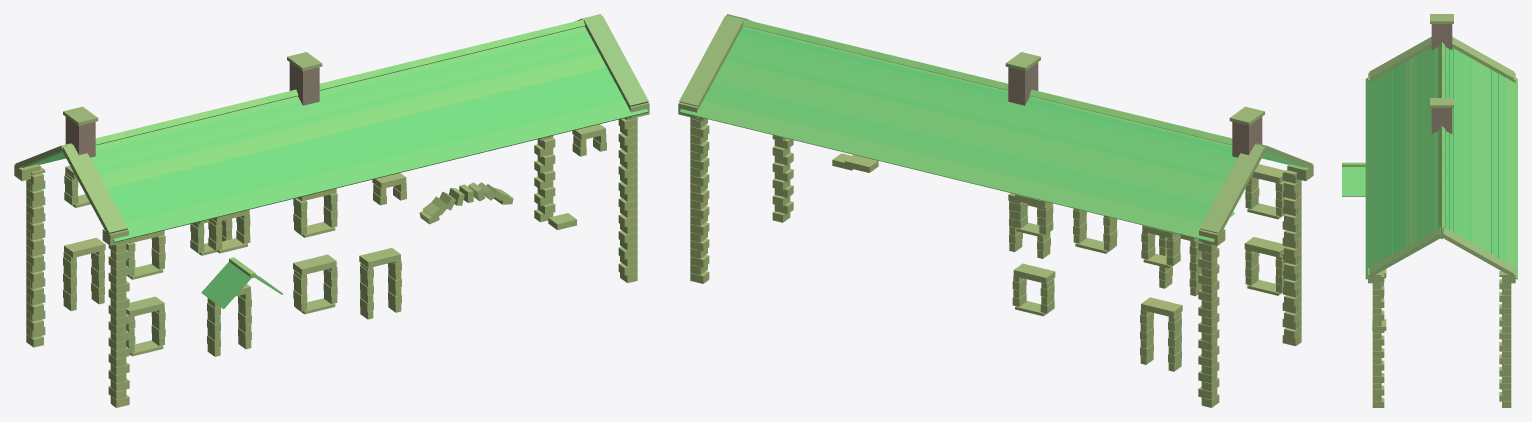
File: SM_Bld_054_Stone.glb
3 views of the same model, side by side, from view 1: azimuth 30°, elevation 25°; view 2: azimuth 150°, elevation 25°; view 3: azimuth 270°, elevation 25° (orthographic). The views are drawn at different scales.
Visible parts, largest first — view 1: SM_Bld_054_Stone; view 2: SM_Bld_054_Stone; view 3: SM_Bld_054_Stone.
Boxes of the visible parts, x1,y1,x2,y2 form: SM_Bld_054_Stone: (14,14,649,407); SM_Bld_054_Stone: (678,14,1313,407); SM_Bld_054_Stone: (1342,14,1517,407).
Size of the model in its own units: 20.84 by 9.53 by 7.66.
